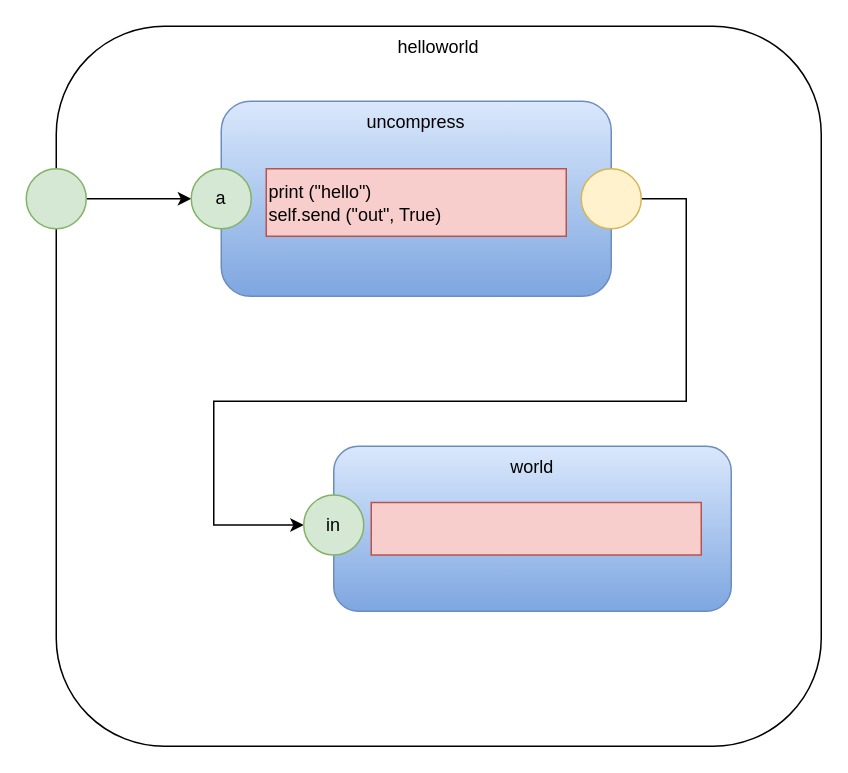
The diagram is 848 pixels wide and 773 high, and some of its shapes have lost their labels. Each missing label, with the centre of its shape:
go: [55,198]
out: [610,198]
print ("world"): [535,528]
